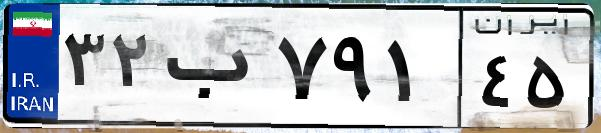1: (385, 28, 445, 110)
2: (110, 28, 158, 98)
3: (57, 26, 110, 100)
4: (475, 38, 525, 113)
5: (525, 38, 570, 115)
7: (270, 28, 330, 110)
9: (330, 28, 385, 110)
ب: (158, 20, 270, 120)
